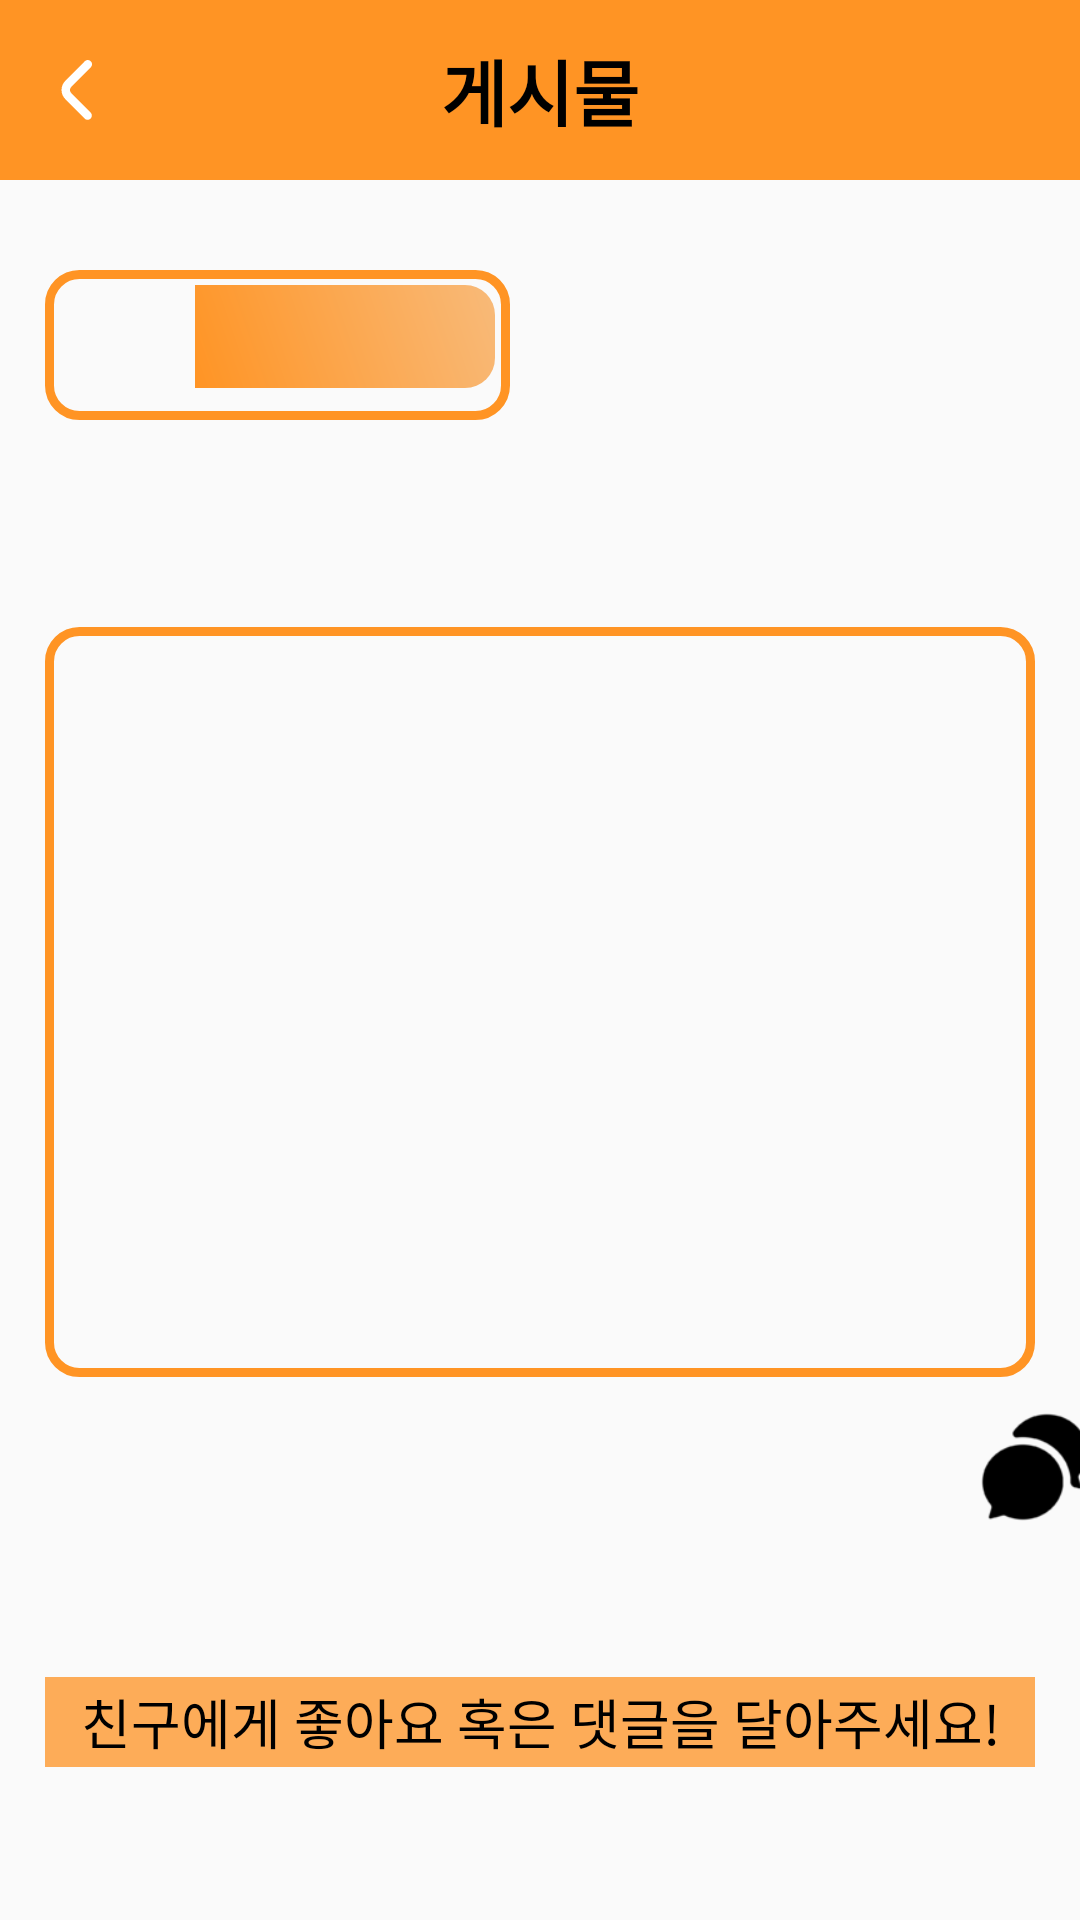

Where icons sit on this 1080x1920 app screen, as (x1, y1, x2, y2):
back: (61, 60, 92, 120)
